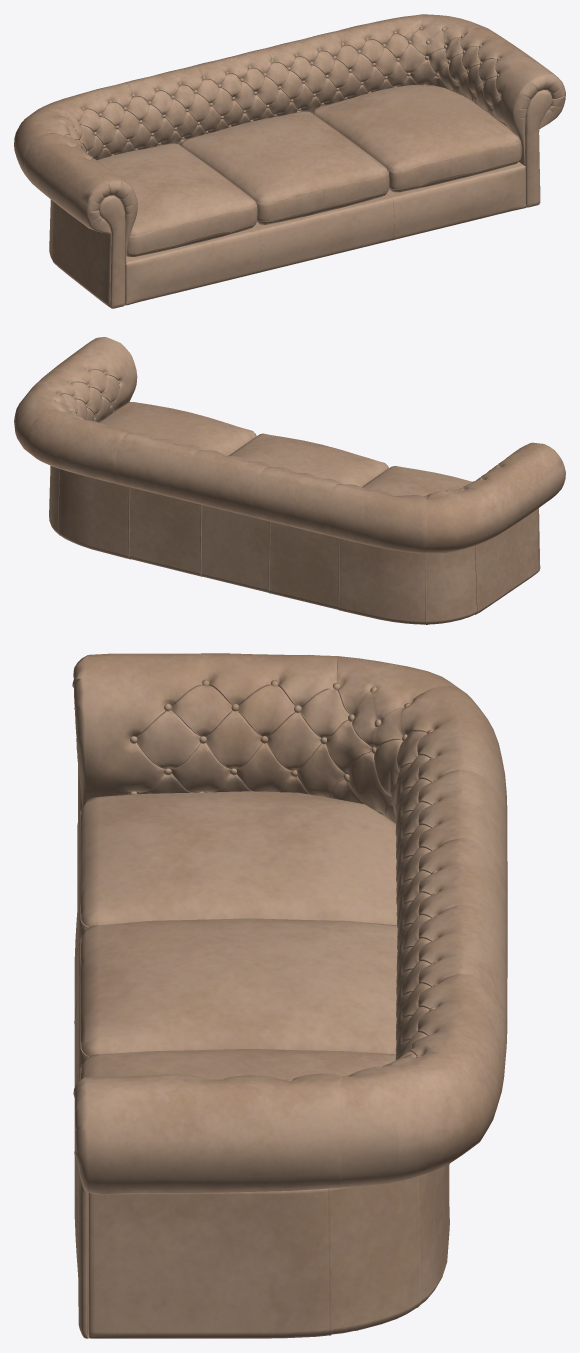
3 renders of one model, top to bottom at view 1: azimuth 30°, elevation 25°; view 2: azimuth 150°, elevation 25°; view 3: azimuth 270°, elevation 25°, orthographic. The views are drawn at different scales.
Visible parts, largest first — view 1: fabric; view 2: fabric; view 3: fabric.
Boxes of the visible parts, x1,y1,x2,y2 form: fabric: [14, 14, 565, 308]; fabric: [14, 337, 565, 624]; fabric: [72, 653, 507, 1338].
Bounding box in the file's own units: 2.34 × 0.6236 × 0.9131.
1 material, 1 textured.
